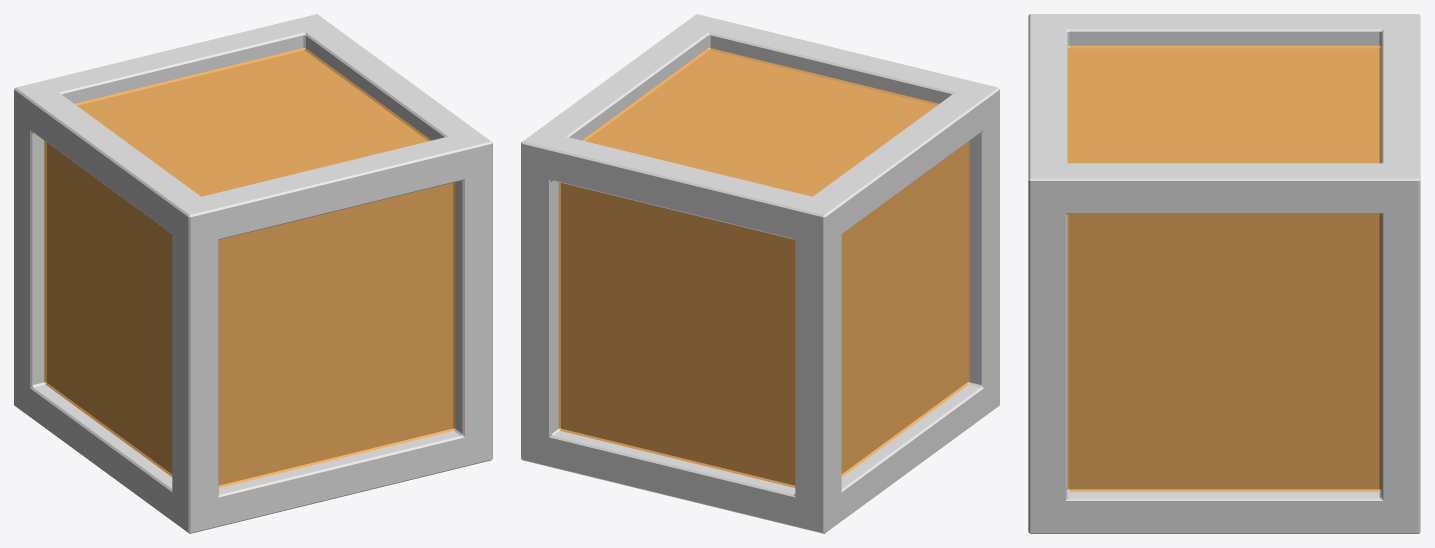
Rendered from Simple Metal box.fbx.
3 renders of one model, left to right at view 1: azimuth 30°, elevation 25°; view 2: azimuth 150°, elevation 25°; view 3: azimuth 270°, elevation 25°, orthographic. The views are drawn at different scales.
Parts seen in each view (by area): view 1: Metal box.001; view 2: Metal box.001; view 3: Metal box.001.
Boxes of the visible parts, x1,y1,x2,y2 form: Metal box.001: (14,14,492,533); Metal box.001: (521,14,999,533); Metal box.001: (1028,14,1420,533).
Size of the model in its own units: 200 by 200 by 200.
